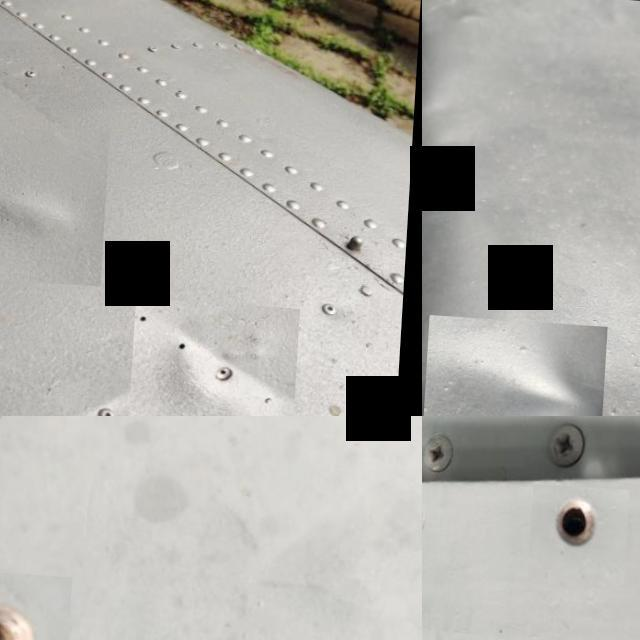Dent: (133, 292, 304, 416), (427, 312, 611, 416), (0, 118, 112, 281)
Missing_Fastener: (532, 480, 632, 585), (0, 567, 75, 640), (422, 482, 456, 557)
